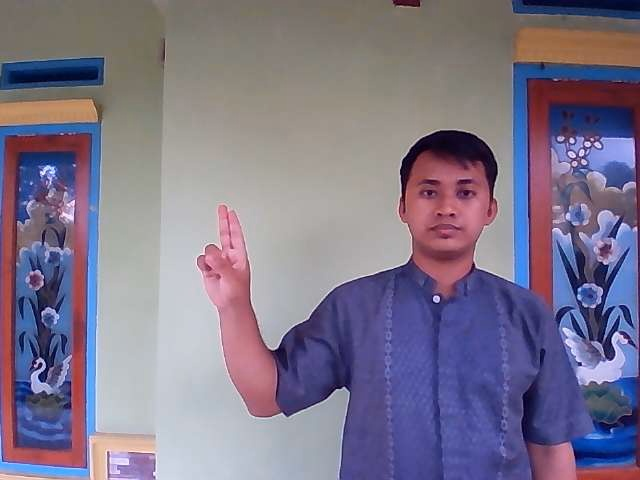U: (194, 202, 251, 302)
